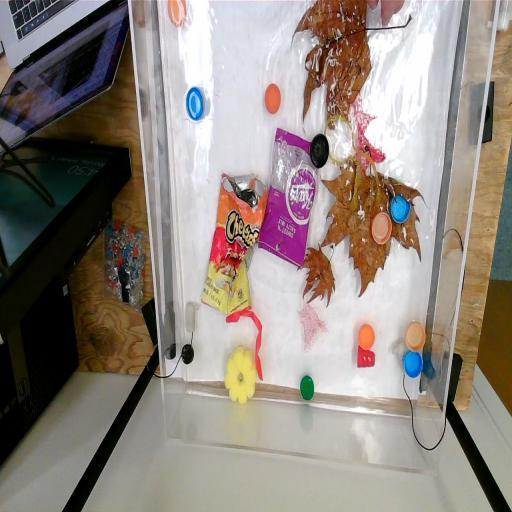Bottle Cap: (180, 83, 208, 125), (370, 208, 394, 250), (308, 129, 331, 172), (404, 316, 428, 356), (388, 188, 410, 226), (262, 77, 282, 117), (166, 0, 190, 32), (298, 372, 318, 410), (401, 348, 424, 380), (356, 321, 378, 353), (180, 341, 196, 367)
Cone Cap: (352, 341, 380, 374)
Leaf: (318, 156, 424, 294), (292, 0, 394, 132), (298, 242, 342, 308)
Netting: (349, 95, 387, 171), (296, 303, 332, 355)
Plastic Bag: (200, 168, 266, 318), (257, 124, 319, 272)
Plastic Strand: (322, 111, 384, 187), (224, 305, 270, 381)
Sponge: (222, 343, 258, 406)
